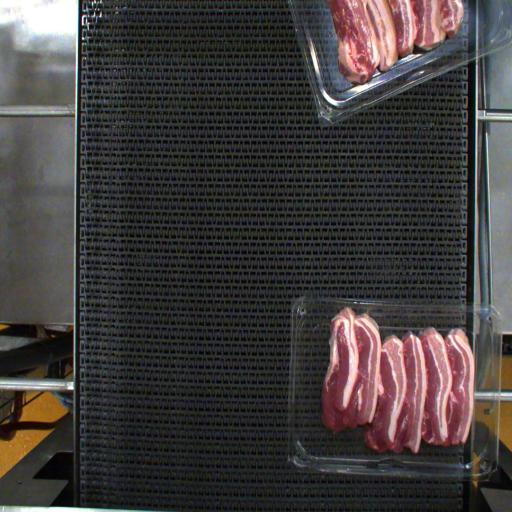packaging-error: (333, 294, 358, 320), (365, 293, 375, 327)
